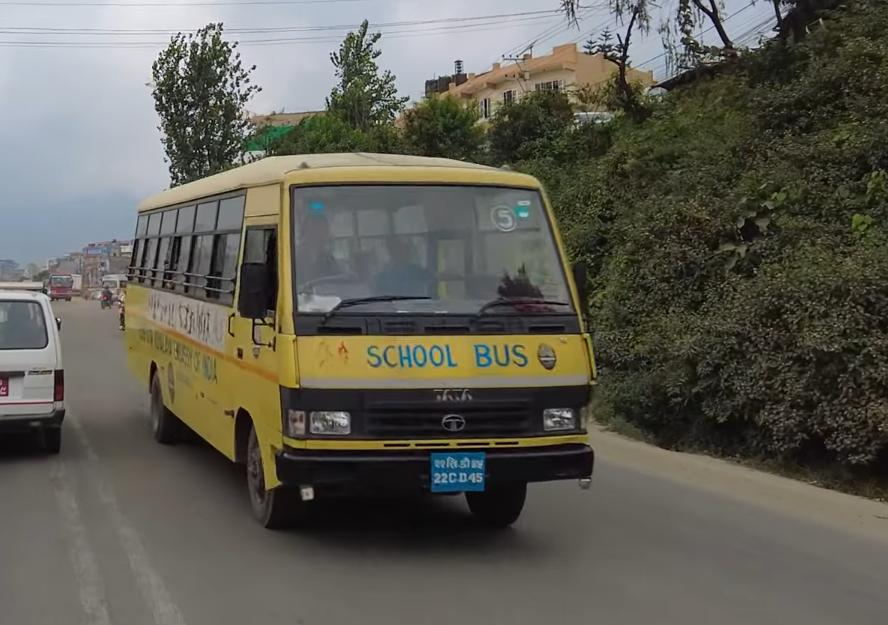school_bus: (109, 149, 607, 545)
van: (0, 280, 74, 458)
